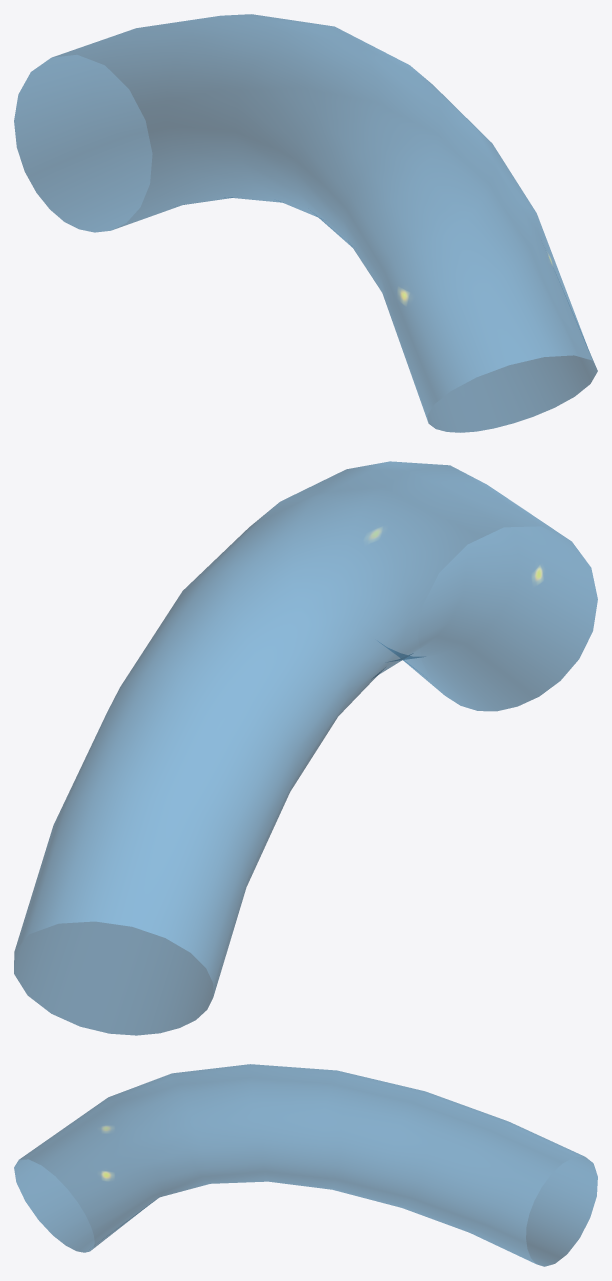
File: lacA_holder.glb
3 renders of one model, top to bottom at view 1: azimuth 30°, elevation 25°; view 2: azimuth 150°, elevation 25°; view 3: azimuth 270°, elevation 25°, orthographic. The views are drawn at different scales.
Parts seen in each view (by area): view 1: lacA; view 2: lacA; view 3: lacA.
Boxes of the visible parts, x1=… form: lacA: x1=14, y1=14, x2=597, y2=432; lacA: x1=14, y1=461, x2=597, y2=1035; lacA: x1=14, y1=1064, x2=597, y2=1266.
Size of the model in its own units: 0.117 by 0.1754 by 0.4553.
Materials: 1 (1 with a texture image).
